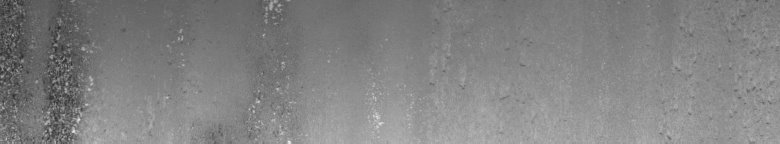hc: (4, 4, 92, 136)
